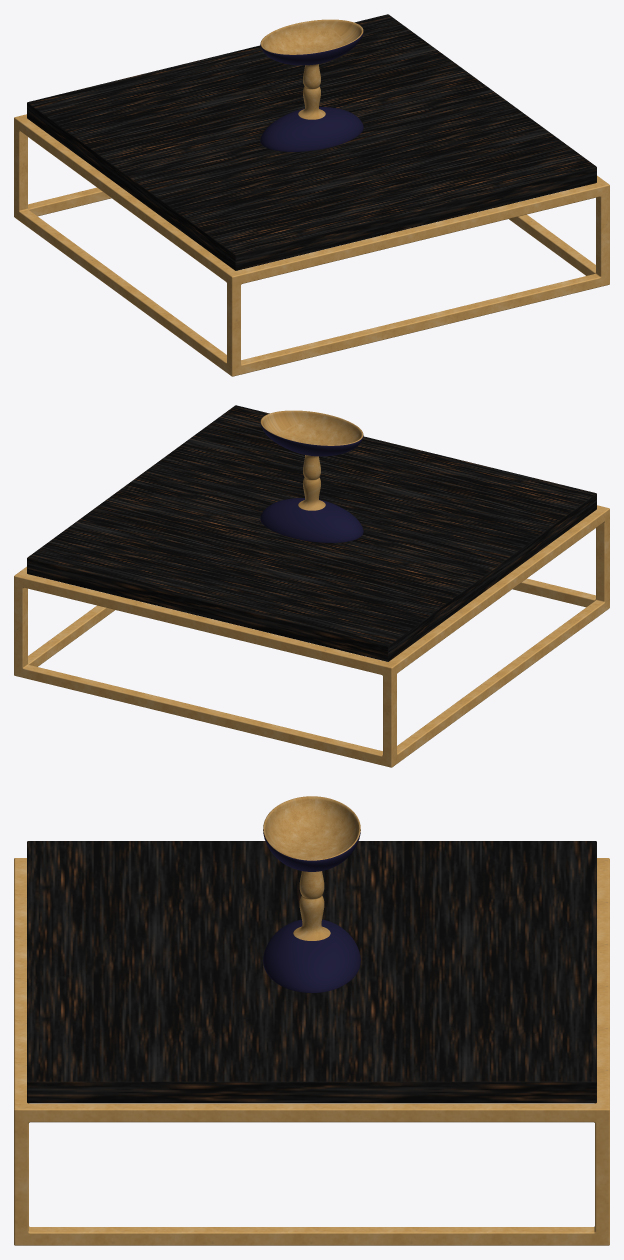
Rendered from san_marco-b_coffee_table.glb.
The picture shows the model from 3 angles, top to bottom: view 1: azimuth 30°, elevation 25°; view 2: azimuth 150°, elevation 25°; view 3: azimuth 270°, elevation 25°; orthographic projection. The views are drawn at different scales.
Visible parts, largest first — view 1: San Marco-B, Vulcano B; view 2: San Marco-B, Vulcano B; view 3: San Marco-B, Vulcano B.
Boxes of the visible parts, box(x1,y1,x2,y2) form: San Marco-B: box(14, 14, 609, 376); Vulcano B: box(260, 19, 363, 151); San Marco-B: box(14, 405, 609, 767); Vulcano B: box(260, 410, 363, 542); San Marco-B: box(14, 841, 609, 1245); Vulcano B: box(263, 796, 360, 992).
Bounding box in the file's own units: 120 × 64.95 × 120.
3 materials, 2 textured.
